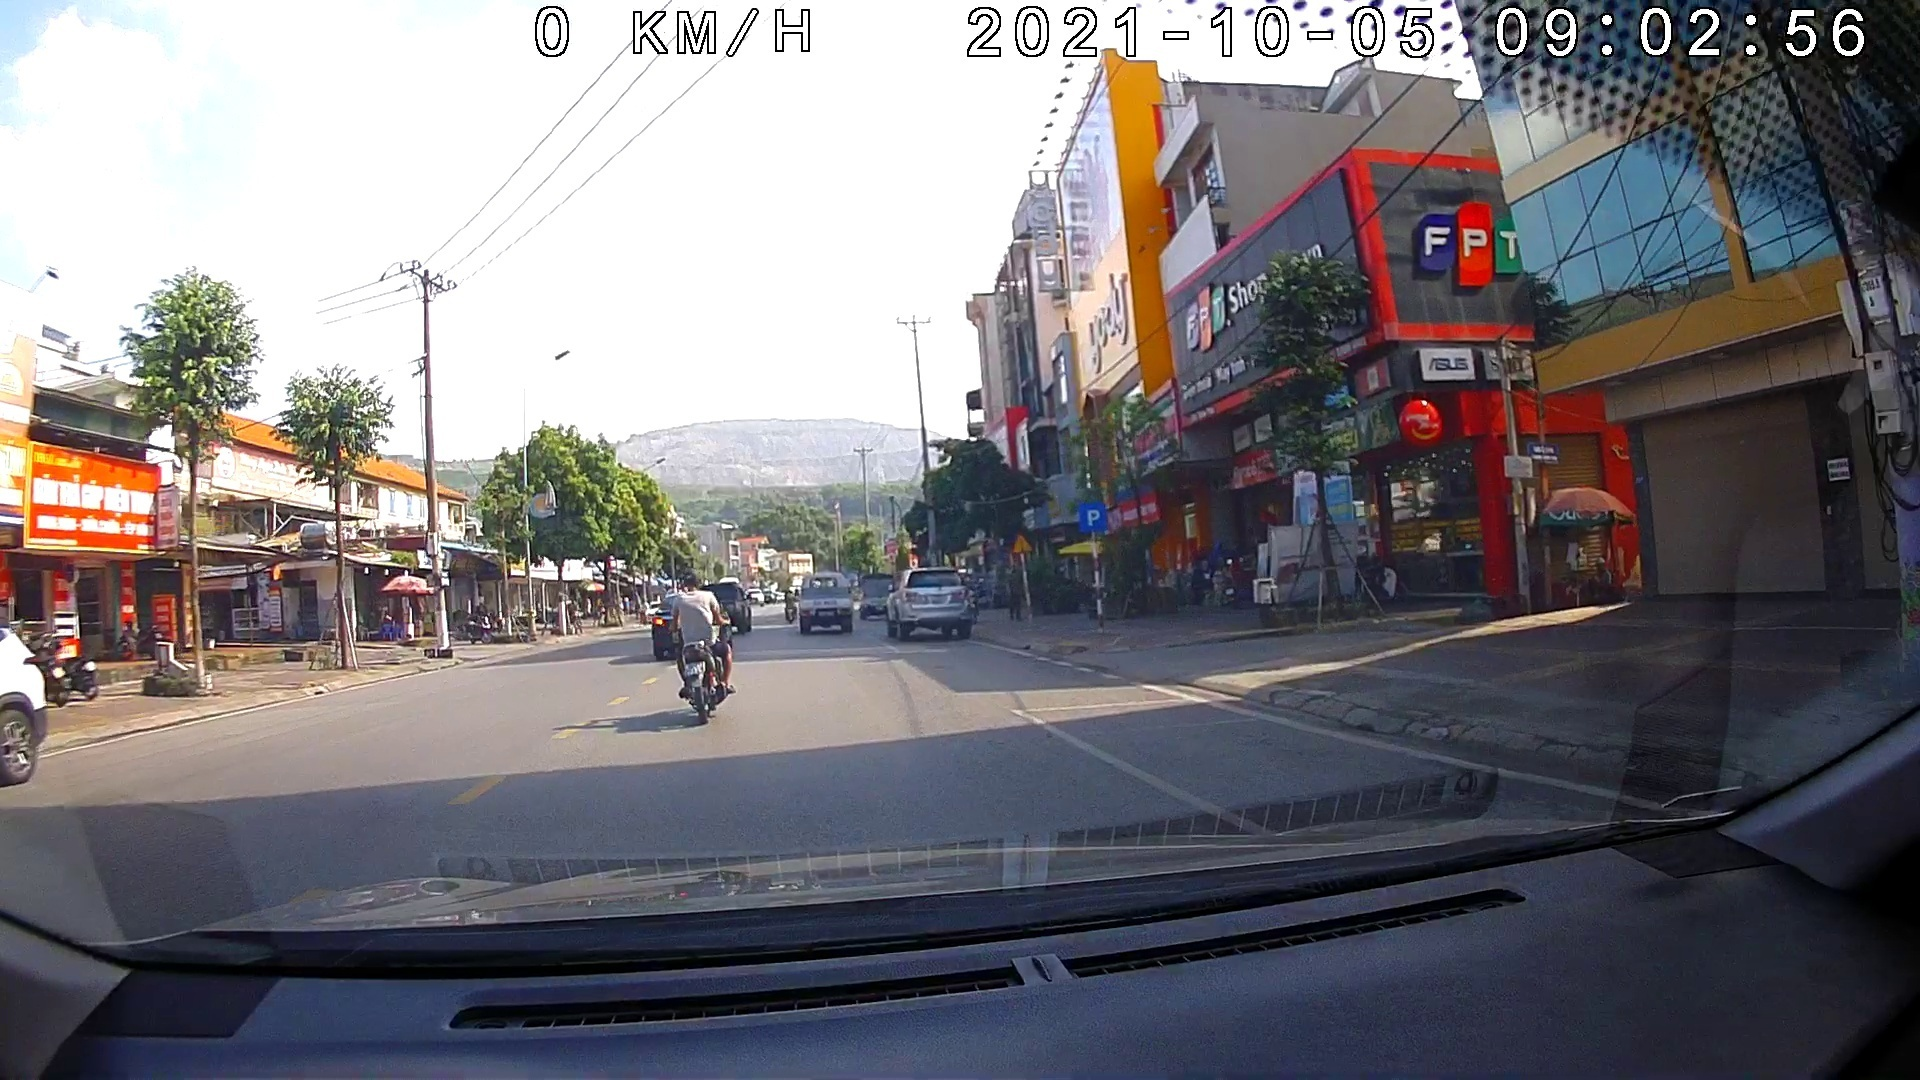Bien khac: (1077, 506, 1106, 530), (1011, 534, 1033, 556)
